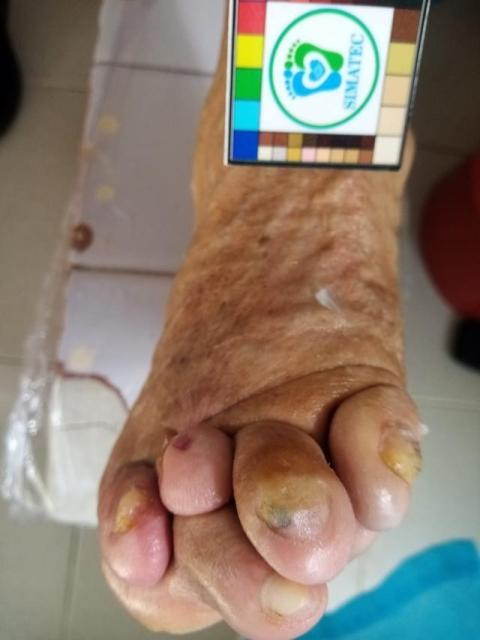wound: (173, 430, 201, 450)
